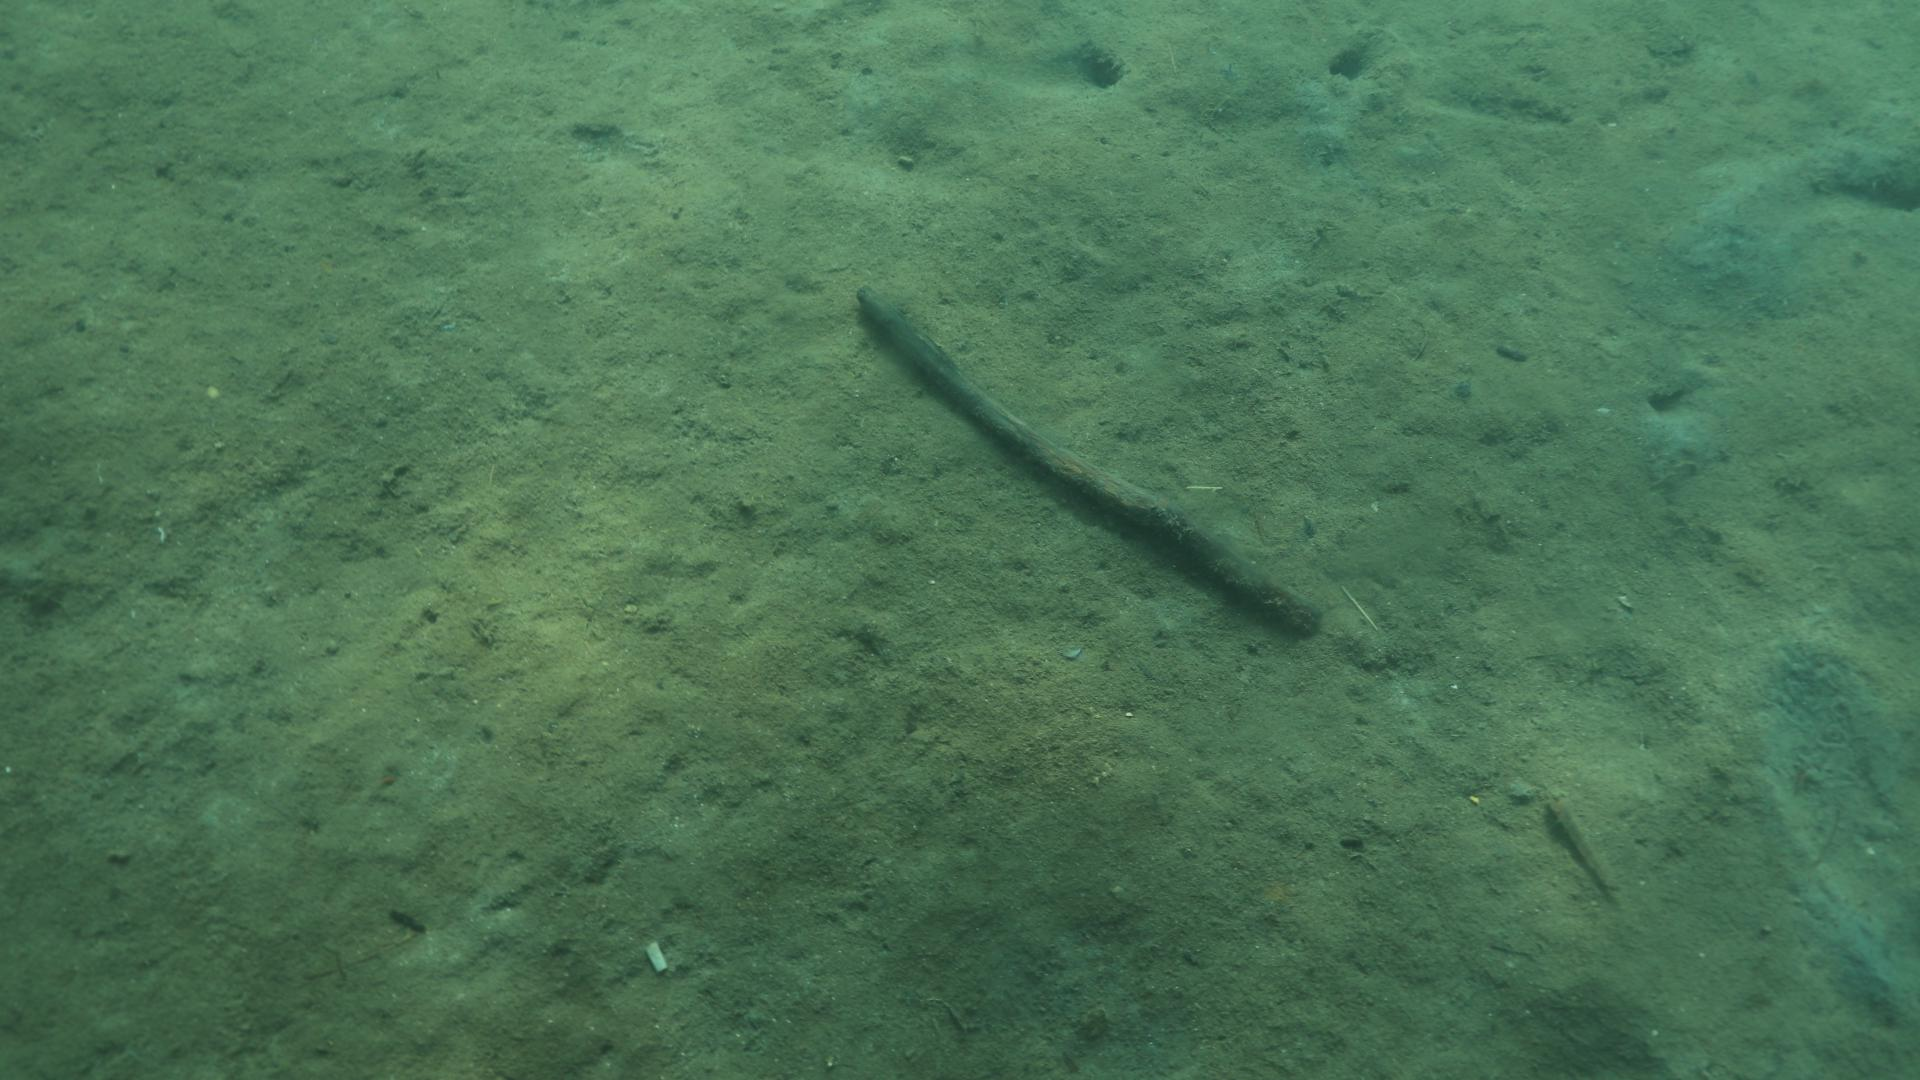wood: (853, 281, 1324, 636)
